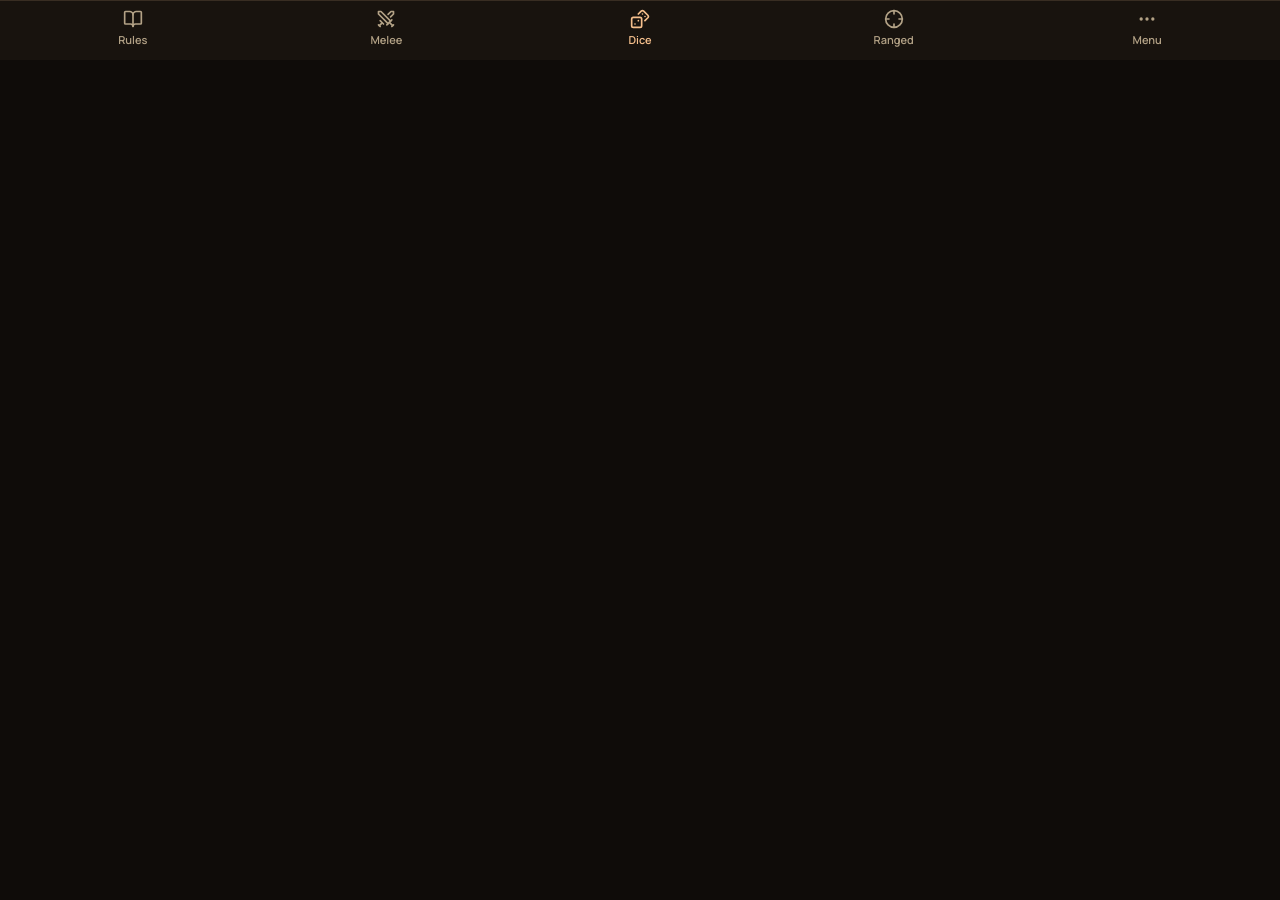
Test: BattleToolsBar › opens the battle's five rule pills in Rules
The width and height of the screenshot is (1280, 900).
Click the button "Rules": (133, 26) [6, 0, 260, 52]
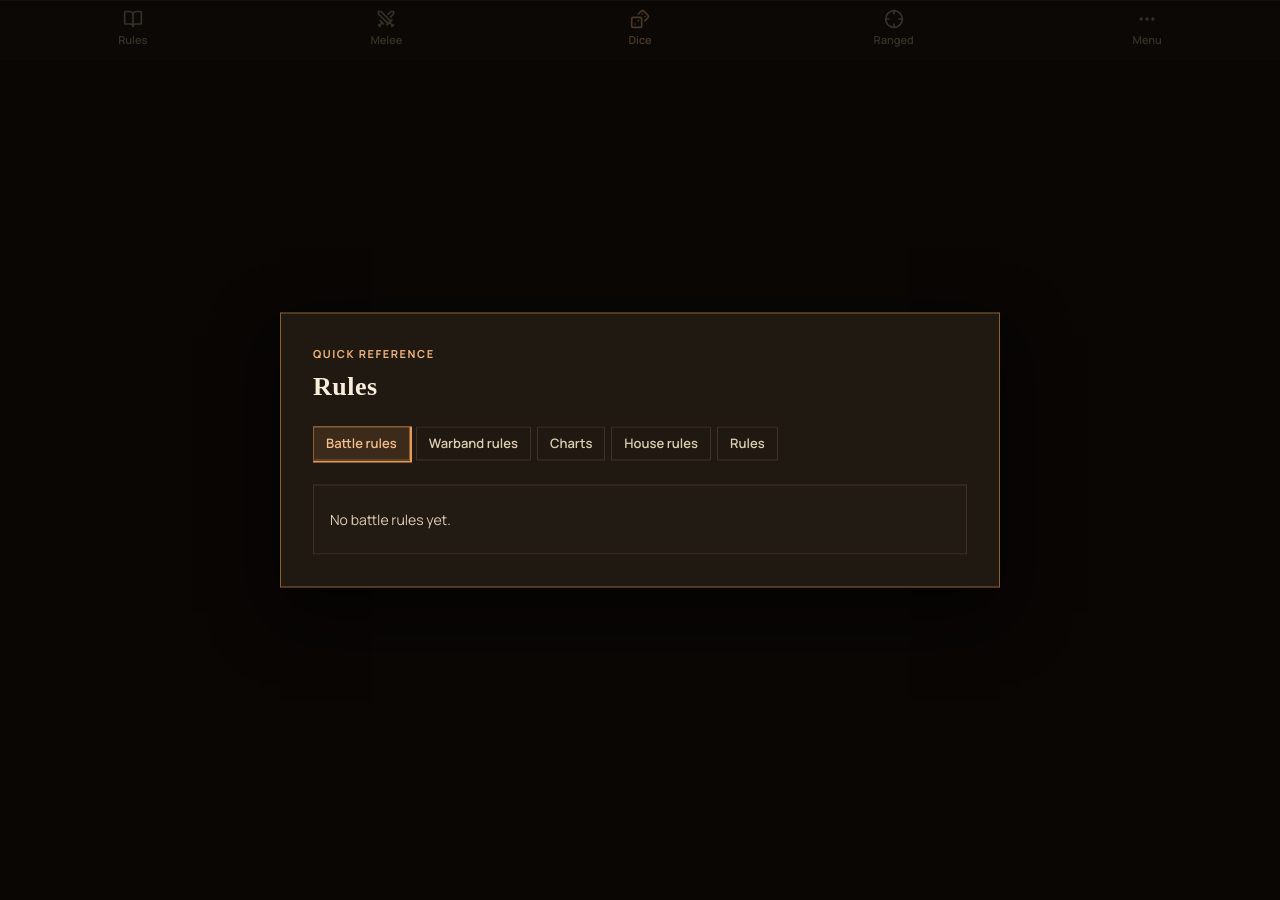
Now the buttons read "Battle rules", "Warband rules", "Charts", "House rules", "Rules", in this order, box [313, 426, 410, 460]; [416, 426, 531, 460]; [537, 426, 605, 460]; [611, 426, 711, 460]; [717, 426, 778, 460]
